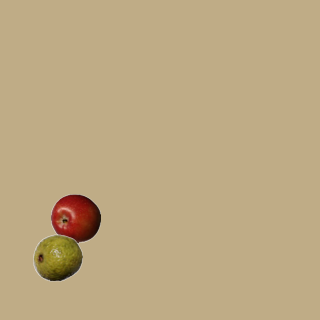Apple Braeburn: (50, 193, 100, 243)
Guava: (32, 232, 82, 282)
